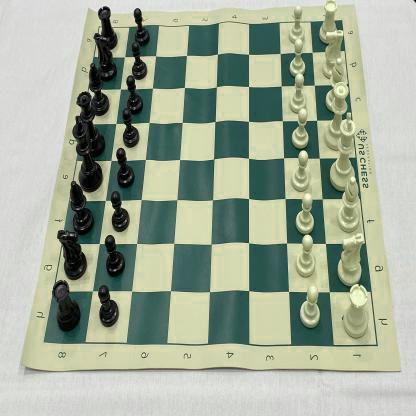black-bishop: (68, 178, 94, 233), (89, 64, 112, 113)
black-king: (72, 116, 102, 192)
black-knight: (58, 228, 87, 279), (94, 33, 116, 78)
black-pawn: (99, 281, 119, 328), (109, 188, 130, 232), (115, 146, 136, 188), (106, 232, 124, 276), (132, 6, 150, 45), (122, 108, 140, 147), (131, 38, 148, 78), (126, 75, 142, 113)
black-queen: (74, 90, 105, 147)
black-rook: (53, 276, 80, 332), (97, 6, 118, 50)
white-bishop: (337, 176, 363, 230)
white-king: (330, 110, 360, 190)
white-knight: (337, 230, 366, 286), (323, 29, 346, 77)
white-pawn: (298, 282, 326, 330), (295, 232, 319, 277), (290, 150, 314, 192), (294, 192, 318, 233), (288, 74, 312, 112), (290, 110, 314, 146), (288, 3, 308, 44), (290, 38, 310, 73)
white-queen: (322, 82, 352, 147)
white-rook: (342, 283, 374, 339), (318, 0, 341, 44)
